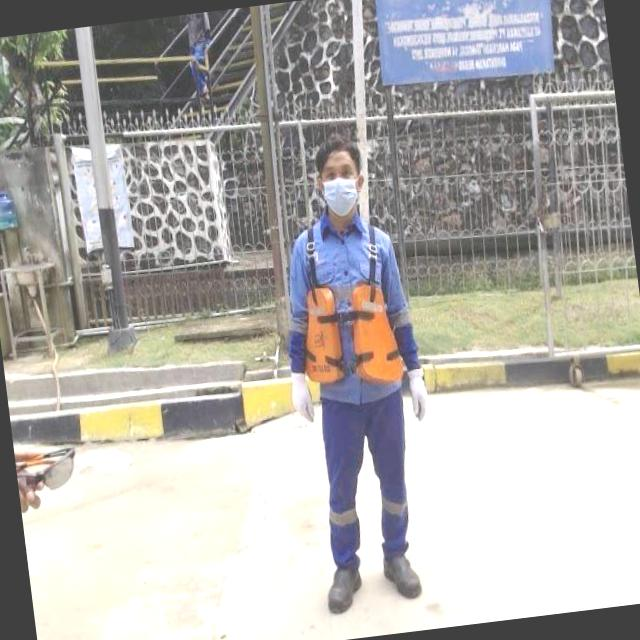vest: (284, 214, 410, 396)
